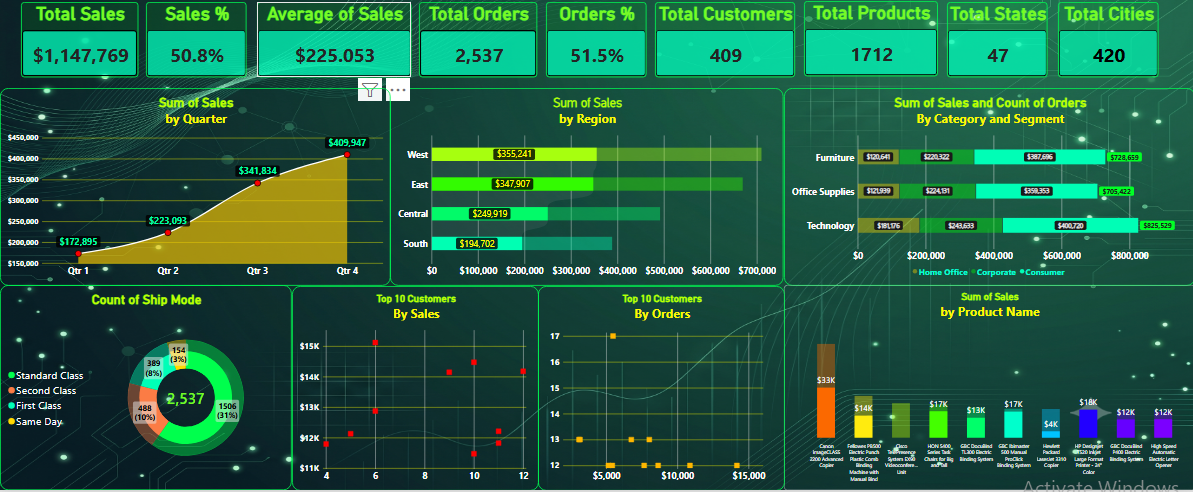

This screenshot's page, from the dashboard's own definition file:
{"tool":"powerbi","page":{"name":"Report","canvas":[2900,1200],"ordinal":0},"visuals":[{"type":"barChart","fields":{"Category":["sales_2.Region Hierarchy.Region","sales_2.Region Hierarchy.State","sales_2.Region Hierarchy.City"],"Y":["Sum(sales_2.Sales)"]},"box":[947.5,222.5,955,480],"z":0},{"type":"barChart","title":"Sum of Sales and Count of Orders","fields":{"Category":["sales_2.Category Hierarchy.Category","sales_2.Category Hierarchy.Sub-Category","sales_2.Category Hierarchy.Product Name"],"Series":["sales_2.Segment"],"Y":["Sum(sales_2.Sales)"]},"box":[1902.6,223.3,997.5,480],"z":1000},{"type":"cardVisual","title":"Total Sales","fields":{"Data":["Sum(sales_2.Sales)"]},"box":[50,15,284.9,182.8],"z":2000},{"type":"cardVisual","title":"Total Orders","fields":{"Data":["Count(sales_2.Order ID)"]},"box":[1017.5,15,287,182.8],"z":3000},{"type":"cardVisual","title":"Total Customers","fields":{"Data":["Count(sales_2.Customer Name)"]},"box":[1590,15,340,182.5],"z":4000},{"type":"cardVisual","title":"Total Cities","fields":{"Data":["Count(sales_2.City)"]},"box":[2567.5,15,244.5,182.8],"z":5000},{"type":"cardVisual","title":"Average of Sales","fields":{"Data":["Avg(sales_2.Sales)"]},"box":[622.5,15,375,182.5],"z":6000},{"type":"donutChart","title":"Count of Ship Mode","fields":{"Category":["sales_2.Ship Mode"],"Y":["Count(sales_2.Order ID)"]},"box":[0,702.5,707.5,497.5],"z":7000},{"type":"lineChart","fields":{"Category":["sales_2.Order Date.Variation.Date Hierarchy.Year","sales_2.Order Date.Variation.Date Hierarchy.Quarter","sales_2.Order Date.Variation.Date Hierarchy.Month","sales_2.Order Date.Variation.Date Hierarchy.Day"],"Y":["Sum(sales_2.Sales)"]},"box":[0,222.5,947.5,480],"z":8000},{"type":"scatterChart","title":"Top 10 Customers","fields":{"Category":["sales_2.Customer Name"],"X":["Count(sales_2.Order ID)"],"Y":["Sum(sales_2.Sales)"]},"box":[708.5,703,598.7,497.1],"z":9000},{"type":"clusteredColumnChart","fields":{"Category":["sales_2.Product Name"],"Y":["Sum(sales_2.Sales)"]},"box":[1902.5,702.5,997.5,497.5],"z":10000},{"type":"cardVisual","title":"Total States","fields":{"Data":["Count(sales_2.State)"]},"box":[2297.5,15,244.5,182.8],"z":11000},{"type":"cardVisual","title":"Total Products","fields":{"Data":["Count(sales_2.Product ID)"]},"box":[1950,12.5,325,182.5],"z":12000},{"type":"cardVisual","title":"Orders %","fields":{"Data":["sales_2.Orders Percentage"]},"box":[1325,15,244.5,182.8],"z":13000},{"type":"cardVisual","title":"Sales %","fields":{"Data":["sales_2.Sales Percentage"]},"box":[355,15,244.5,182.8],"z":14000},{"type":"scatterChart","title":"Top 10 Customers","fields":{"Category":["sales_2.Customer Name"],"X":["Sum(sales_2.Sales)"],"Y":["Count(sales_2.Order ID)"]},"box":[1304.5,703,598.7,497.1],"z":15000}]}

Visuals, with their boxes on the page's 2900x1200 design canvas (x1, y1, x2, y2). These are canvas units, not pixel positions in the 1193x492 screenshot, which may show the page scaled, cropped or inside an application window:
barChart - sales_2.Region Hierarchy.Region x sales_2.Region Hierarchy.State: 948, 222, 1902, 702
"Sum of Sales and Count of Orders" barChart: 1903, 223, 2900, 703
"Total Sales" cardVisual: 50, 15, 335, 198
"Total Orders" cardVisual: 1018, 15, 1304, 198
"Total Customers" cardVisual: 1590, 15, 1930, 198
"Total Cities" cardVisual: 2568, 15, 2812, 198
"Average of Sales" cardVisual: 622, 15, 998, 198
"Count of Ship Mode" donutChart: 0, 702, 708, 1200
lineChart - sales_2.Order Date.Variation.Date Hierarchy.Year x sales_2.Order Date.Variation.Date Hierarchy.Quarter: 0, 222, 948, 702
"Top 10 Customers" scatterChart: 708, 703, 1307, 1200
clusteredColumnChart - sales_2.Product Name x Sum(sales_2.Sales): 1902, 702, 2900, 1200
"Total States" cardVisual: 2298, 15, 2542, 198
"Total Products" cardVisual: 1950, 12, 2275, 195
"Orders %" cardVisual: 1325, 15, 1570, 198
"Sales %" cardVisual: 355, 15, 600, 198
"Top 10 Customers" scatterChart: 1304, 703, 1903, 1200
